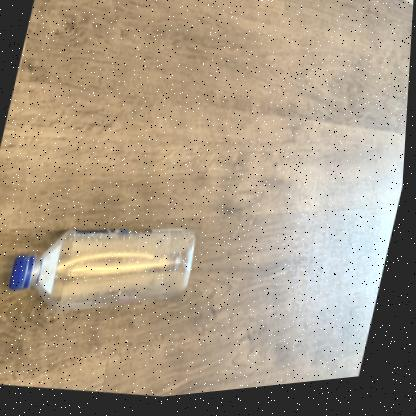Plastic: (10, 232, 196, 312)
